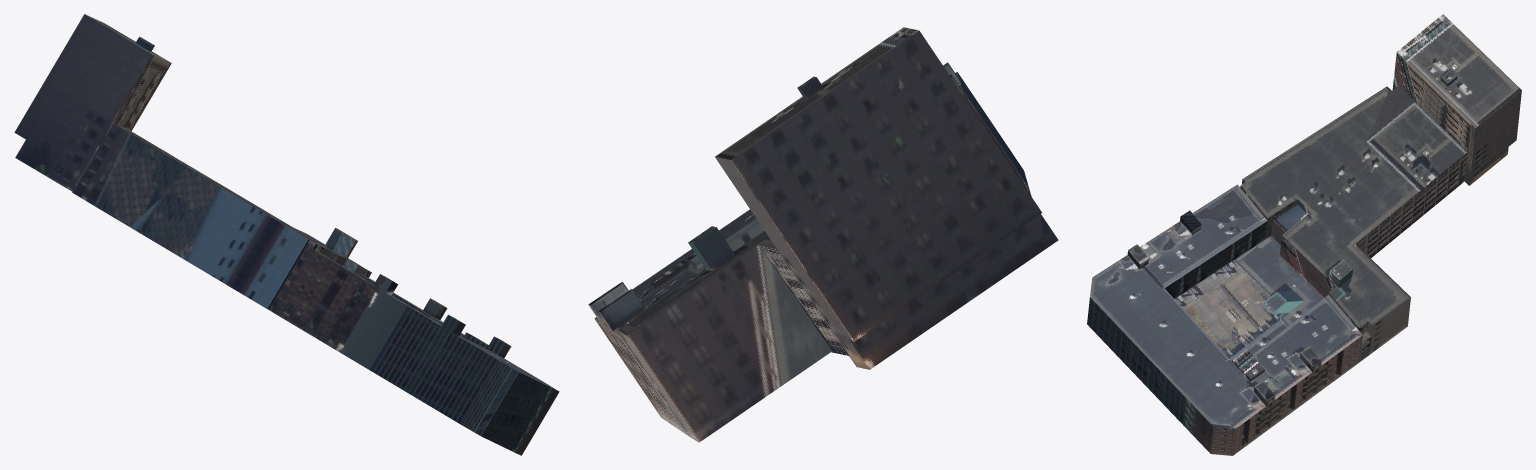
Rendered from 17-134341-27738-0-tex1024.glb.
The picture shows the model from 3 angles, left to right: view 1: azimuth 30°, elevation 25°; view 2: azimuth 150°, elevation 25°; view 3: azimuth 270°, elevation 25°; orthographic projection. The views are drawn at different scales.
Visible parts, largest first — view 1: BAG_0599100000664968, BAG_0599100000664969; view 2: BAG_0599100000664969, BAG_0599100000664968; view 3: BAG_0599100000664968, BAG_0599100000664969.
Part boxes in pixels (bbox=[...]): BAG_0599100000664968: bbox=[72, 123, 559, 455]; BAG_0599100000664969: bbox=[14, 14, 171, 191]; BAG_0599100000664969: bbox=[715, 27, 1058, 369]; BAG_0599100000664968: bbox=[588, 62, 1031, 442]; BAG_0599100000664968: bbox=[1087, 85, 1467, 455]; BAG_0599100000664969: bbox=[1392, 14, 1521, 185].
Bounding box in the file's own units: 85.38 × 81.29 × 97.82.
Materials: 2 (1 with a texture image).
